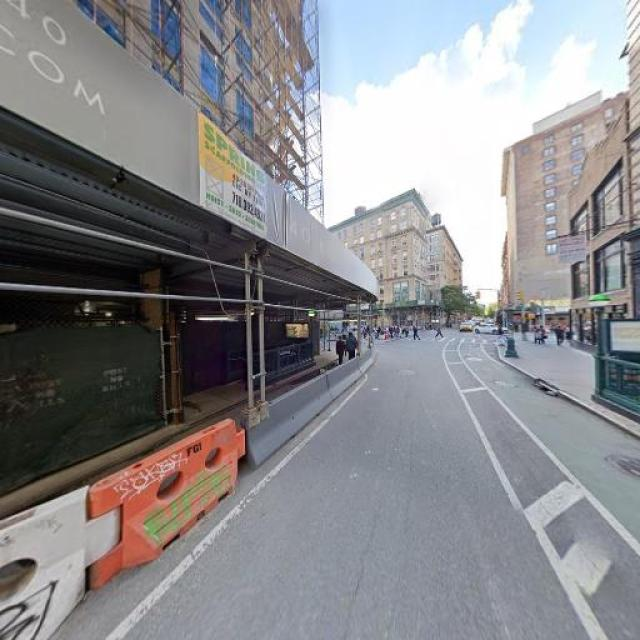Building: (1, 1, 269, 452), (572, 104, 627, 362), (637, 1, 640, 367)
